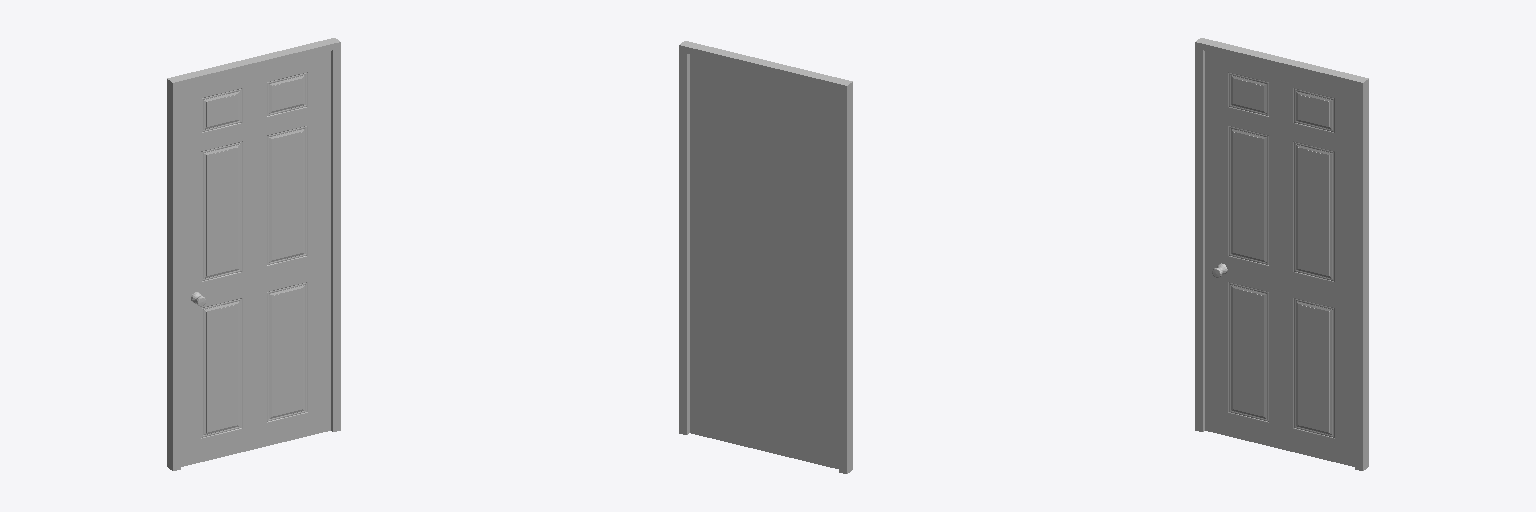
Rendered from door.obj.
The picture shows the model from 3 angles: view 1: azimuth 30°, elevation 25°; view 2: azimuth 150°, elevation 25°; view 3: azimuth 330°, elevation 25°; orthographic projection.
Visible parts, largest first — view 1: Door_Frame_Cube.000; view 2: Door_Frame_Cube.000; view 3: Door_Frame_Cube.000.
Boxes of the visible parts, box(x1,y1,x2,y2) form: Door_Frame_Cube.000: box(167, 38, 340, 470); Door_Frame_Cube.000: box(679, 41, 852, 473); Door_Frame_Cube.000: box(1195, 38, 1368, 470).
Size of the model in its own units: 1 by 2.22 by 0.1054.